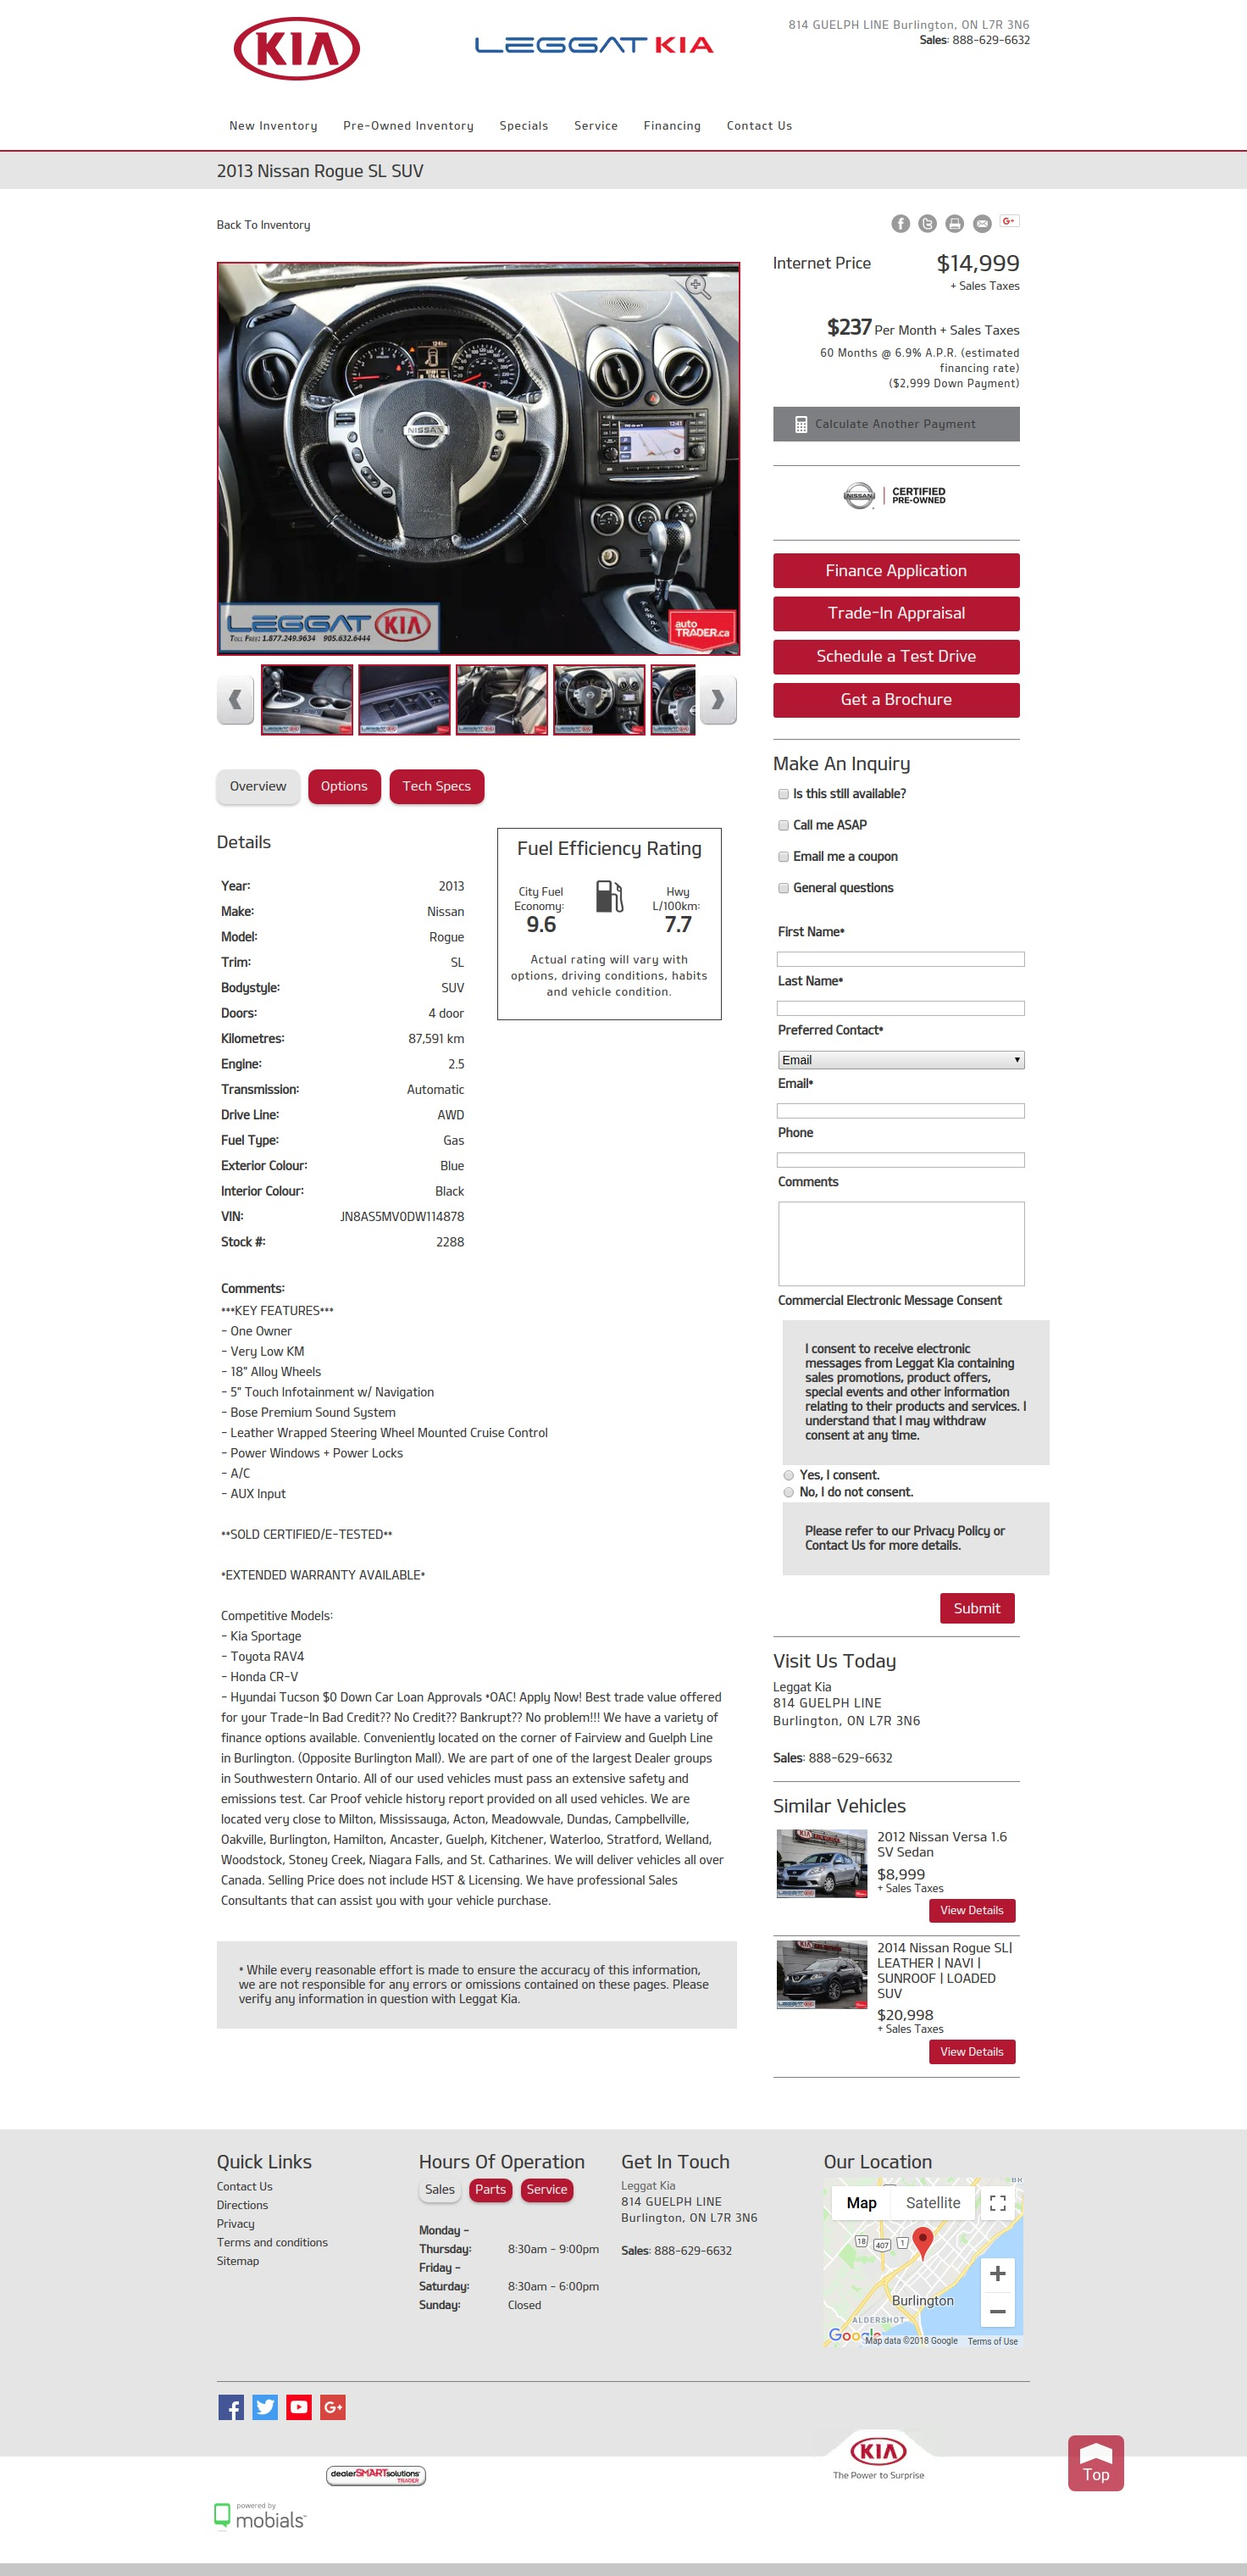car: (711, 688, 725, 711)
